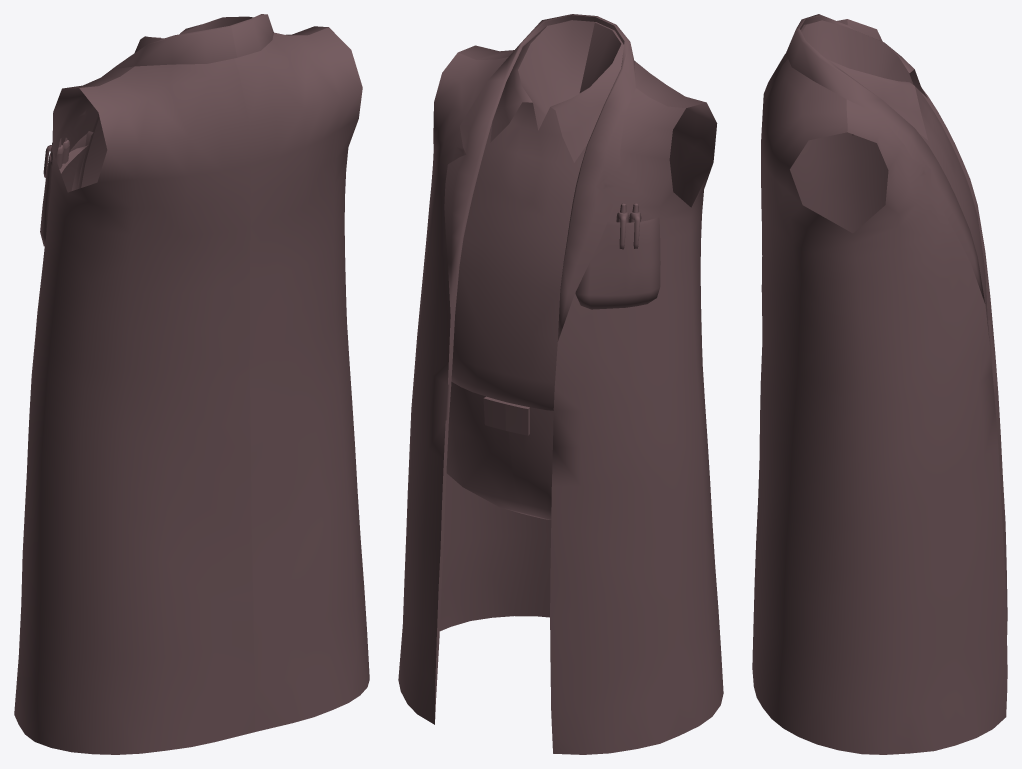
The model's file is cuerpoOak.obj.
3 renders of one model, left to right at view 1: azimuth 30°, elevation 25°; view 2: azimuth 150°, elevation 25°; view 3: azimuth 270°, elevation 25°, orthographic. The views are drawn at different scales.
Parts seen in each view (by area): view 1: Spine1, Spine2, Spine3, LSkirtC2, LSkirtC1, LSkirtB1, RSkirtC2, RSkirtC1, LSkirtB2, LShoulder, RShoulder, Neck (+2 smaller); view 2: Spine1, Spine3, Spine2, LSkirtB1, LSkirtB2, LShoulder, Torso_body.001, LSkirtA2, LSkirtA1, RSkirtB2, RSkirtC2, RShoulder (+5 smaller); view 3: RSkirtB1, RSkirtB2, Spine1, Spine2, Spine3, RShoulder, RSkirtC2, RSkirtC1, RSkirtA2, RSkirtA1, Neck, LSkirtA1.
Part boxes in pixels (x1,y1,x2,y2): Spine1: (31,244,349,433); Spine2: (40,131,348,330); Spine3: (45,15,337,231); LSkirtC2: (93,555,254,754); LSkirtC1: (119,387,252,608); LSkirtB1: (22,338,124,611); RSkirtC2: (253,509,367,731); RSkirtC1: (250,341,348,593); LSkirtB2: (14,529,116,754); LShoulder: (52,57,188,208); RShoulder: (272,26,362,158); Neck: (135,14,272,65); Spine1: (414,238,704,447); Spine3: (433,20,703,245); Spine2: (424,139,701,341); LSkirtB1: (581,384,715,611); LSkirtB2: (581,543,723,753); LShoulder: (582,62,717,222); Torso_body.001: (446,382,553,519); LSkirtA2: (550,573,634,754); LSkirtA1: (550,411,630,616); RSkirtB2: (398,495,491,703); RSkirtC2: (470,503,551,620); RShoulder: (433,45,514,183); RSkirtB1: (790,398,988,617); RSkirtB2: (786,570,991,754); Spine1: (760,183,992,445); Spine2: (761,132,985,347); Spine3: (761,20,964,252); RShoulder: (768,81,940,243); RSkirtC2: (752,517,798,736); RSkirtC1: (756,361,797,577); RSkirtA2: (955,534,1007,737); RSkirtA1: (951,373,1002,604); Neck: (786,14,884,98); LSkirtA1: (988,321,1002,478).
Bounding box in the file's own units: 44.25 × 92.86 × 32.59.
